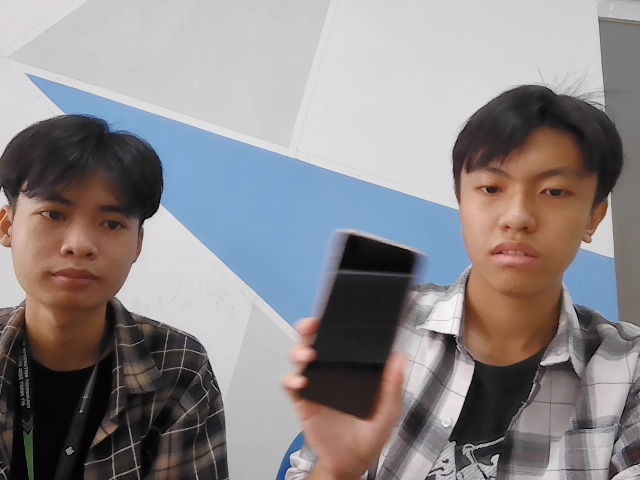human: (453, 81, 615, 302), (3, 111, 167, 309)
phone: (294, 218, 416, 429)
